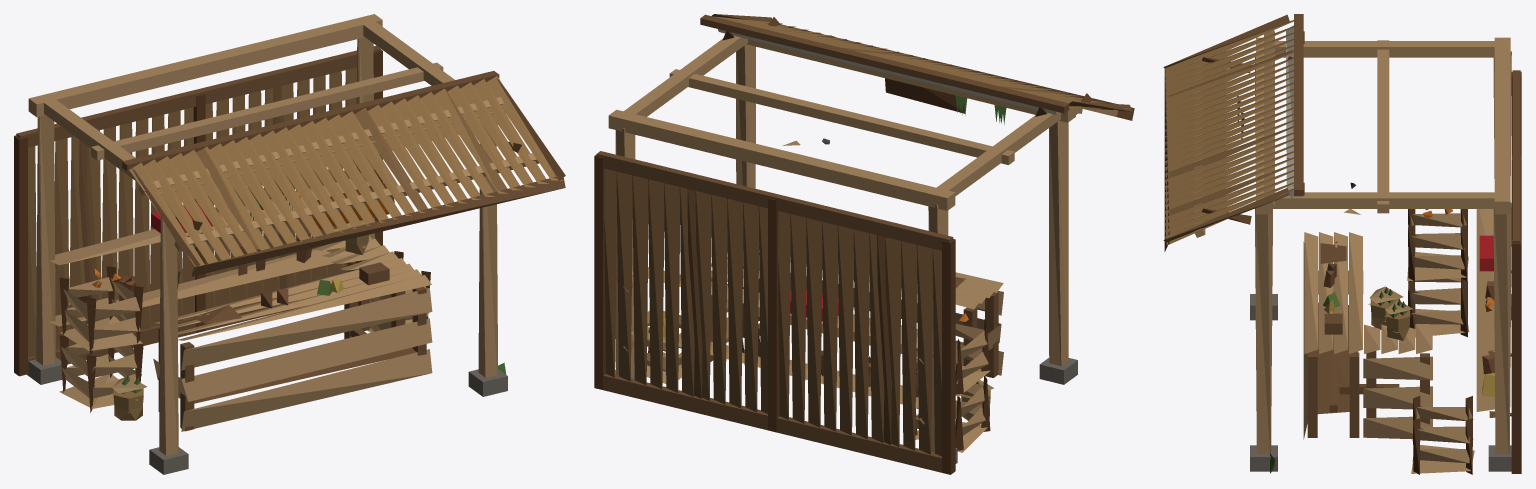
The model's file is lib_lib_shop_stall.vc2.glb.
The picture shows the model from 3 angles, left to right: view 1: azimuth 30°, elevation 25°; view 2: azimuth 150°, elevation 25°; view 3: azimuth 270°, elevation 25°; orthographic projection. The views are drawn at different scales.
Visible parts, largest first — view 1: lib_lib_shop_stall; view 2: lib_lib_shop_stall; view 3: lib_lib_shop_stall.
Boxes of the visible parts, left/top/right/bottom form: lib_lib_shop_stall: left=14, top=14, right=565, bottom=474; lib_lib_shop_stall: left=594, top=14, right=1134, bottom=474; lib_lib_shop_stall: left=1163, top=14, right=1521, bottom=474.
Bounding box in the file's own units: 4.19 × 3.2 × 3.6.
